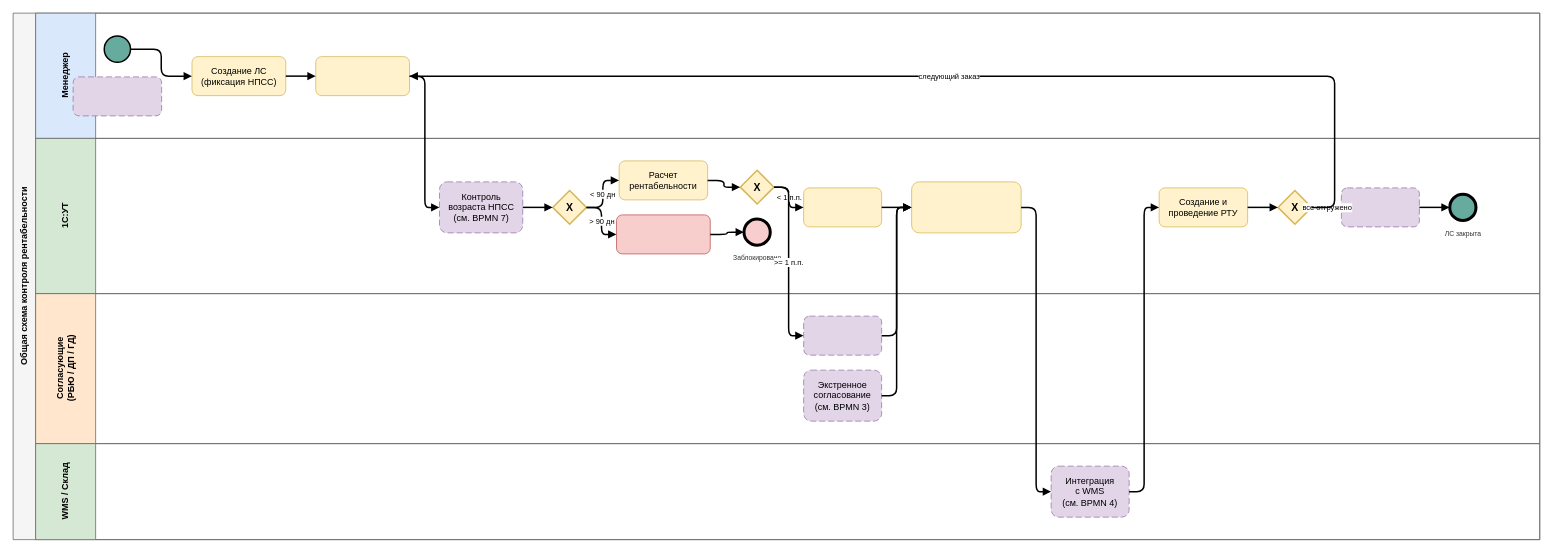
Image size: 1553x553. Some labels were removed from this diagram. The centre of each missing label's shape, as x and y in pixels:
"Авто- согласование" belongs at point 842,207.
"Блокировка (НПСС устарела)" belongs at point 663,234.
"Возврат товара (см. BPMN 5)" belongs at point 117,96.
"Закрытие ЛС (см. BPMN 6)" belongs at point 1380,207.
"Передача на склад (точка невозврата)" belongs at point 966,207.
"Согласование (см. BPMN 2)" belongs at point 842,335.
"Создание Заказа по ЛС" belongs at point 362,76.
